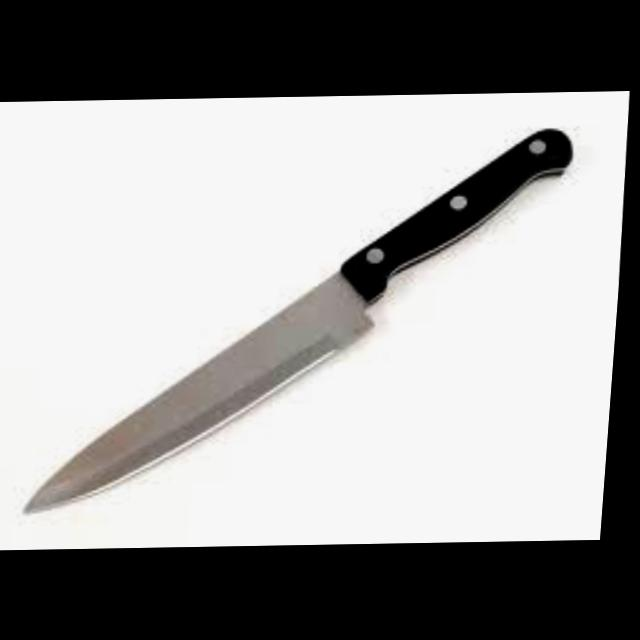Knife: (26, 125, 585, 512)
